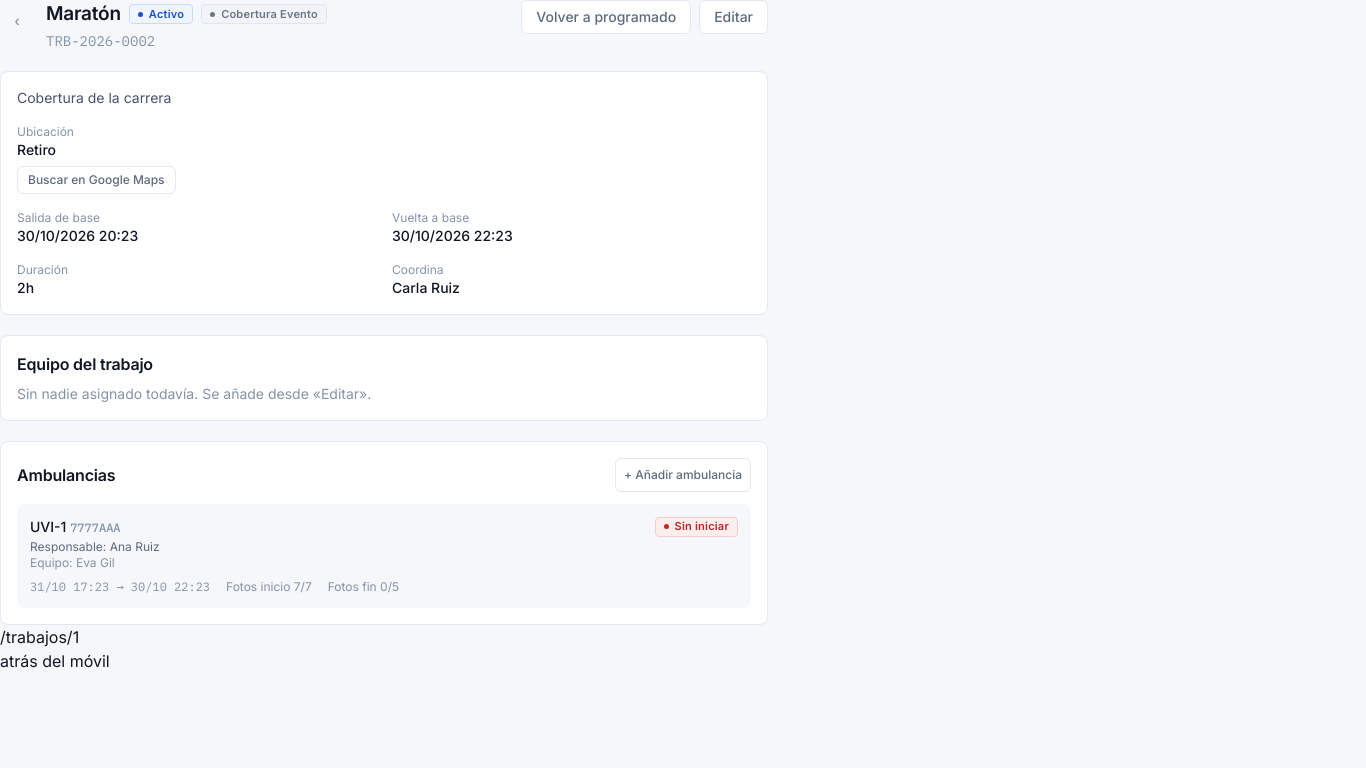
Test case: TrabajoDetail › «Volver a programado» › gestión lo devuelve tras confirmar
Click the button with test id "volver-a-programado" at point(606, 17), box x1=521 y1=0 x2=691 y2=34
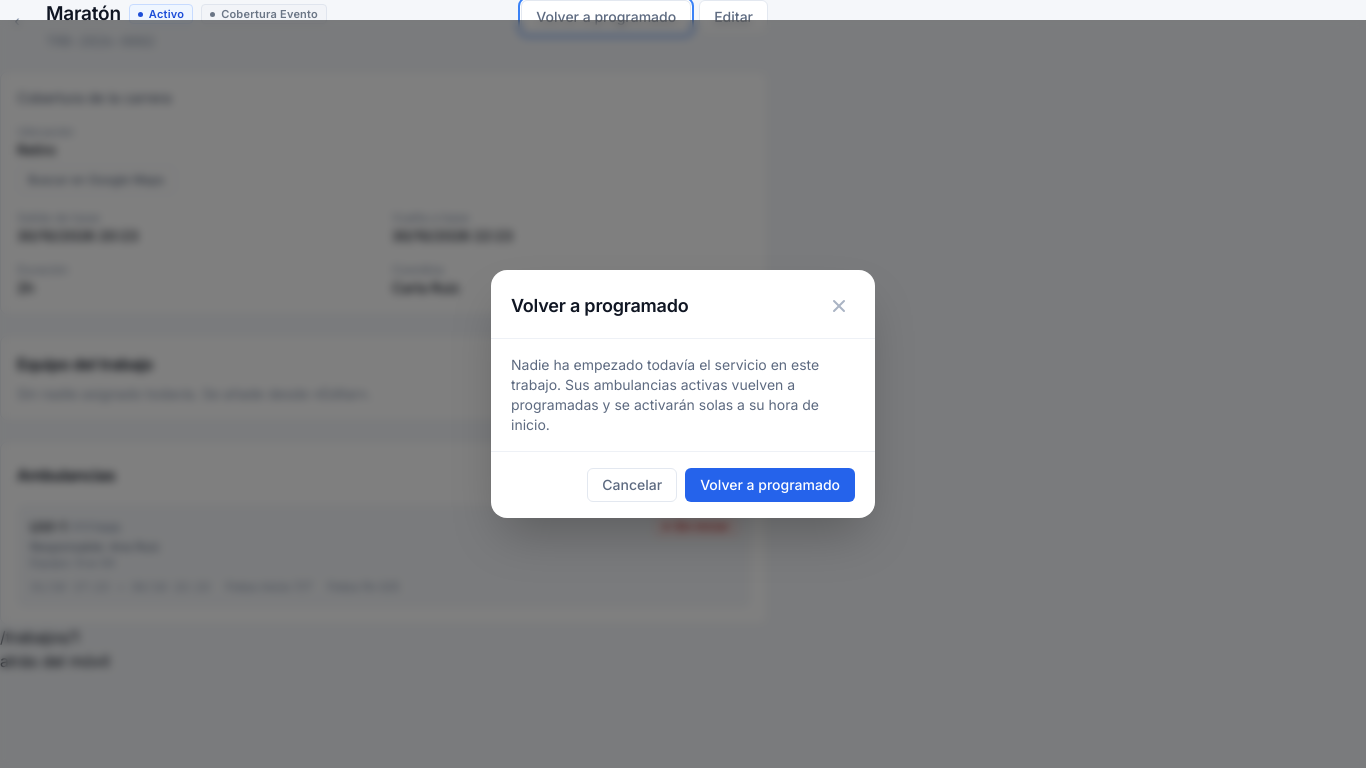
Now the text "se activarán solas a su hora de inicio" is shown, box x1=511 y1=356 x2=819 y2=433
Click the 2nd button "Volver a programado" at point(770, 485), box x1=685 y1=468 x2=855 y2=502
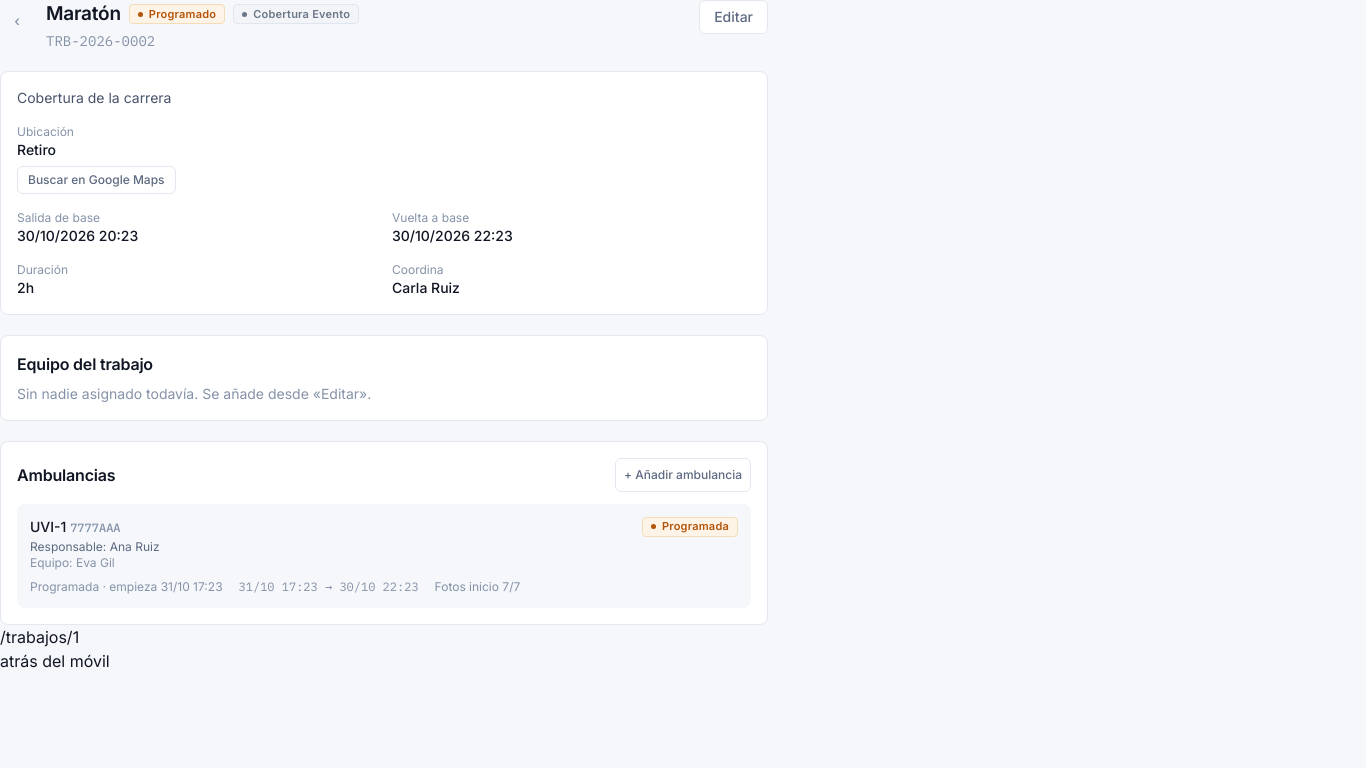
Now the button with test id "volver-a-programado" is gone
